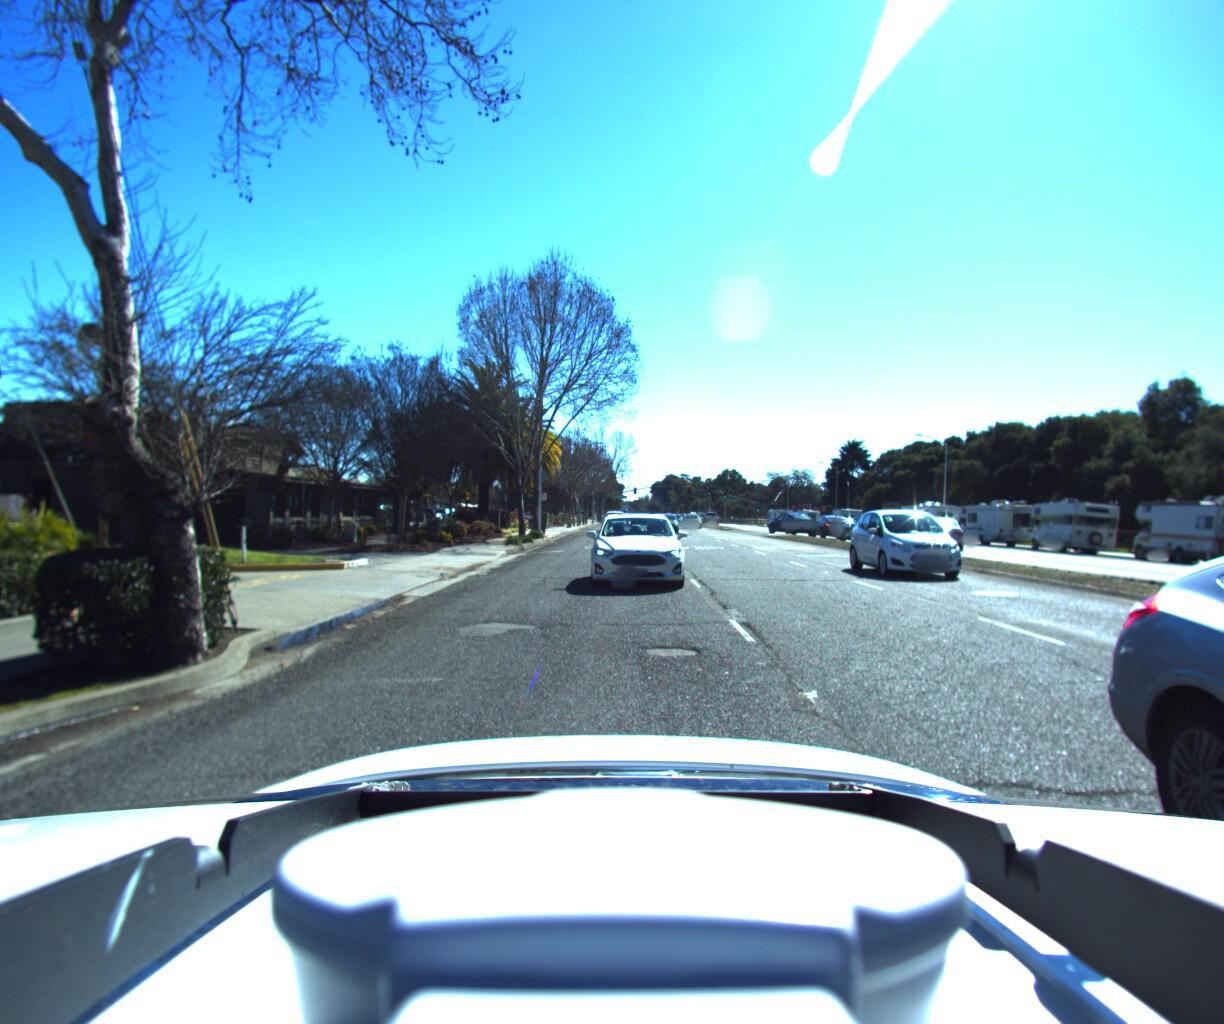car: (857, 504, 1001, 584), (587, 508, 689, 591), (761, 513, 819, 536), (806, 516, 855, 542), (597, 510, 623, 532)
other_vehicle: (1118, 489, 1224, 570), (1020, 493, 1124, 556), (948, 496, 1040, 549), (890, 499, 964, 544)
